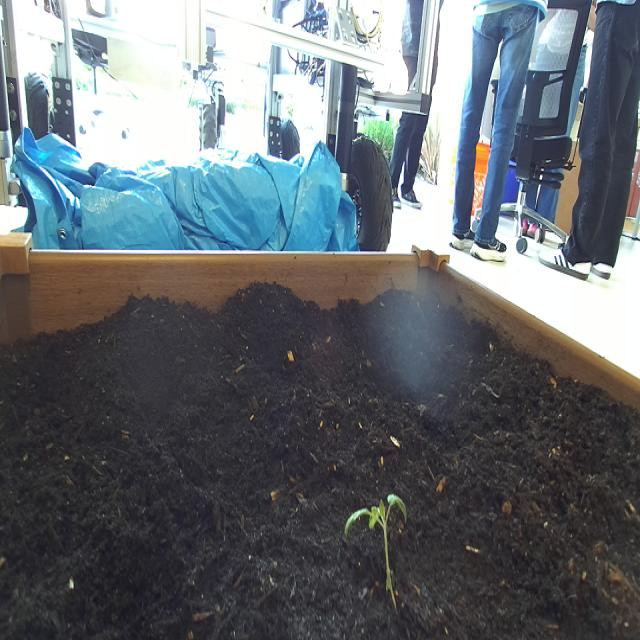Healthy: (336, 475, 421, 626)
